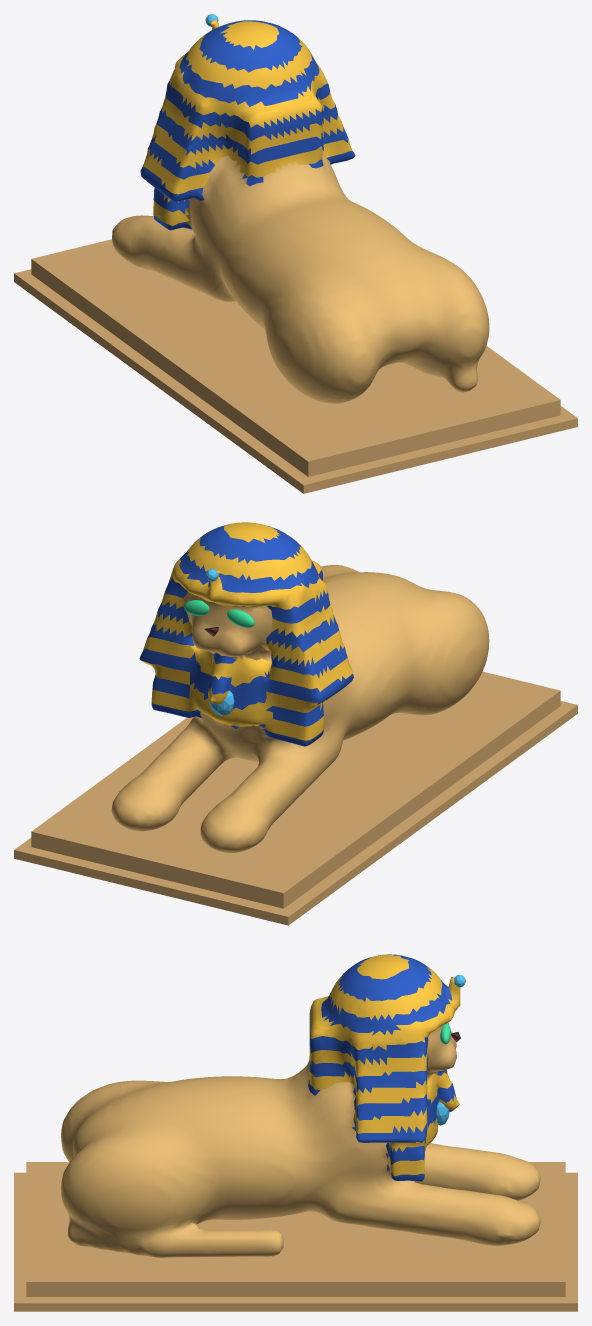
Rendered from SandSphinx.obj.
3 renders of one model, top to bottom at view 1: azimuth 30°, elevation 25°; view 2: azimuth 150°, elevation 25°; view 3: azimuth 270°, elevation 25°, orthographic. The views are drawn at different scales.
Visible parts, largest first — view 1: Plinth, Body, Nemes, NemesBlue; view 2: Plinth, Body, Nemes, NemesBlue, Eyes; view 3: Body, Plinth, Nemes, NemesBlue.
Boxes of the visible parts, box(x1,y1,x2,y2) form: Plinth: box(14, 227, 577, 493); Body: box(112, 150, 489, 403); Nemes: box(143, 20, 352, 225); NemesBlue: box(140, 20, 355, 230); Plinth: box(14, 671, 577, 925); Body: box(111, 565, 489, 852); Nemes: box(141, 522, 352, 740); NemesBlue: box(139, 524, 353, 746); Eyes: box(184, 600, 254, 627); Body: box(61, 1022, 540, 1257); Plinth: box(14, 1162, 577, 1311); Nemes: box(308, 954, 460, 1176); NemesBlue: box(308, 954, 456, 1181).
Size of the model in its own units: 35.57 by 36.18 by 65.01.
